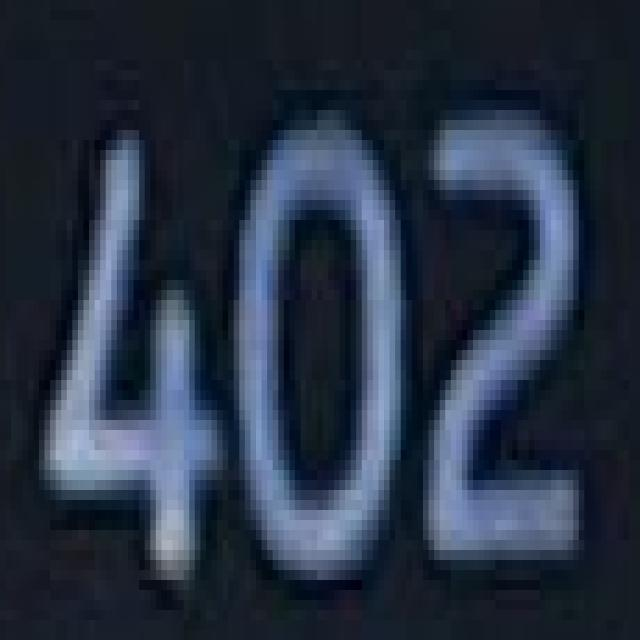character: (29, 106, 232, 610), (230, 105, 412, 595), (416, 104, 600, 586)
